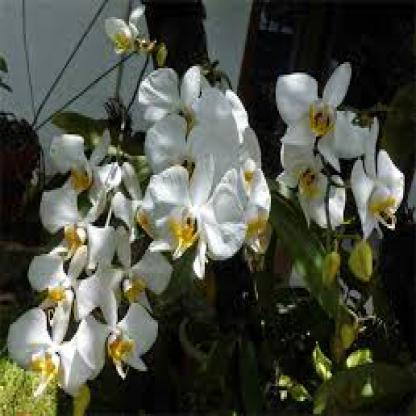ANGGREK: (19, 78, 275, 396), (246, 18, 409, 255)
